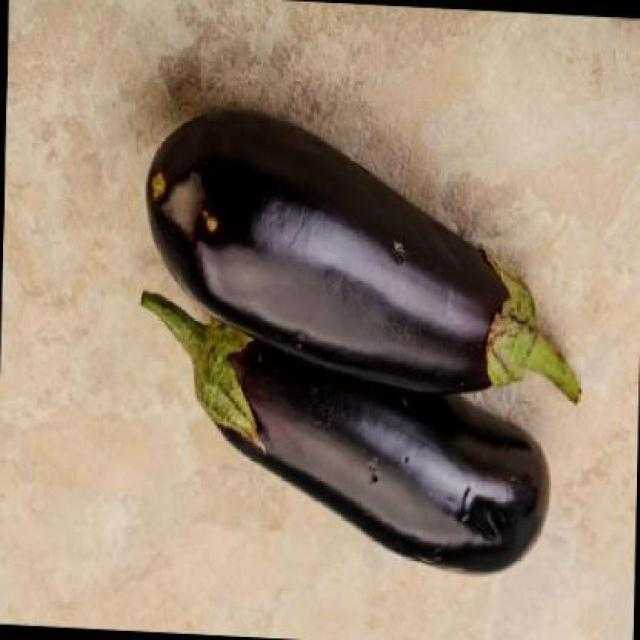eggplant: (140, 100, 588, 405), (131, 289, 554, 580)
